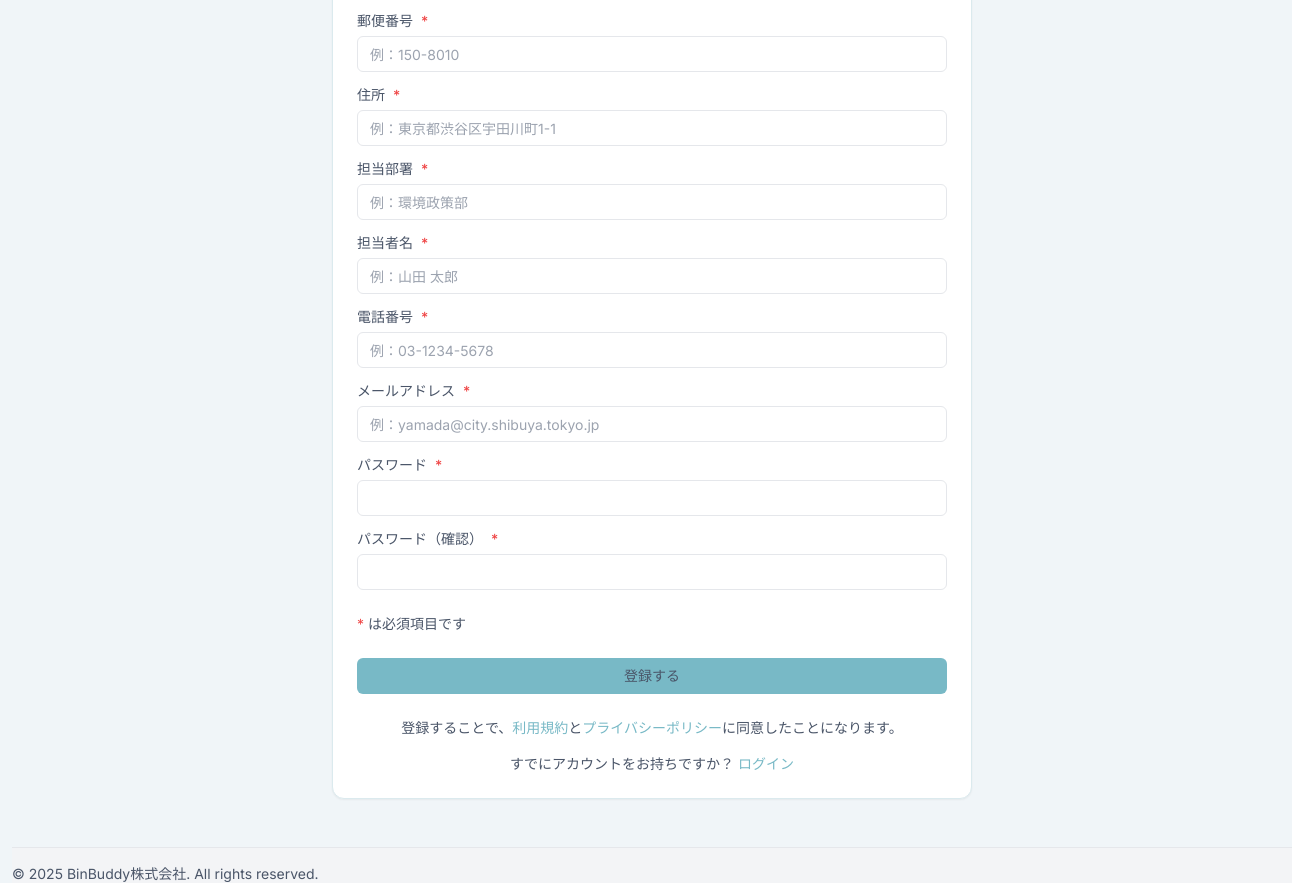
Test: Register Page › 異常系: フォーム未入力でバリデーションエラーが表示される
(page scrolled)
What coordinates should you click on to do the following:
click the button "登録する"
I would click on:
 (652, 676)
Its box is [357,658,947,694].
(page scrolled)
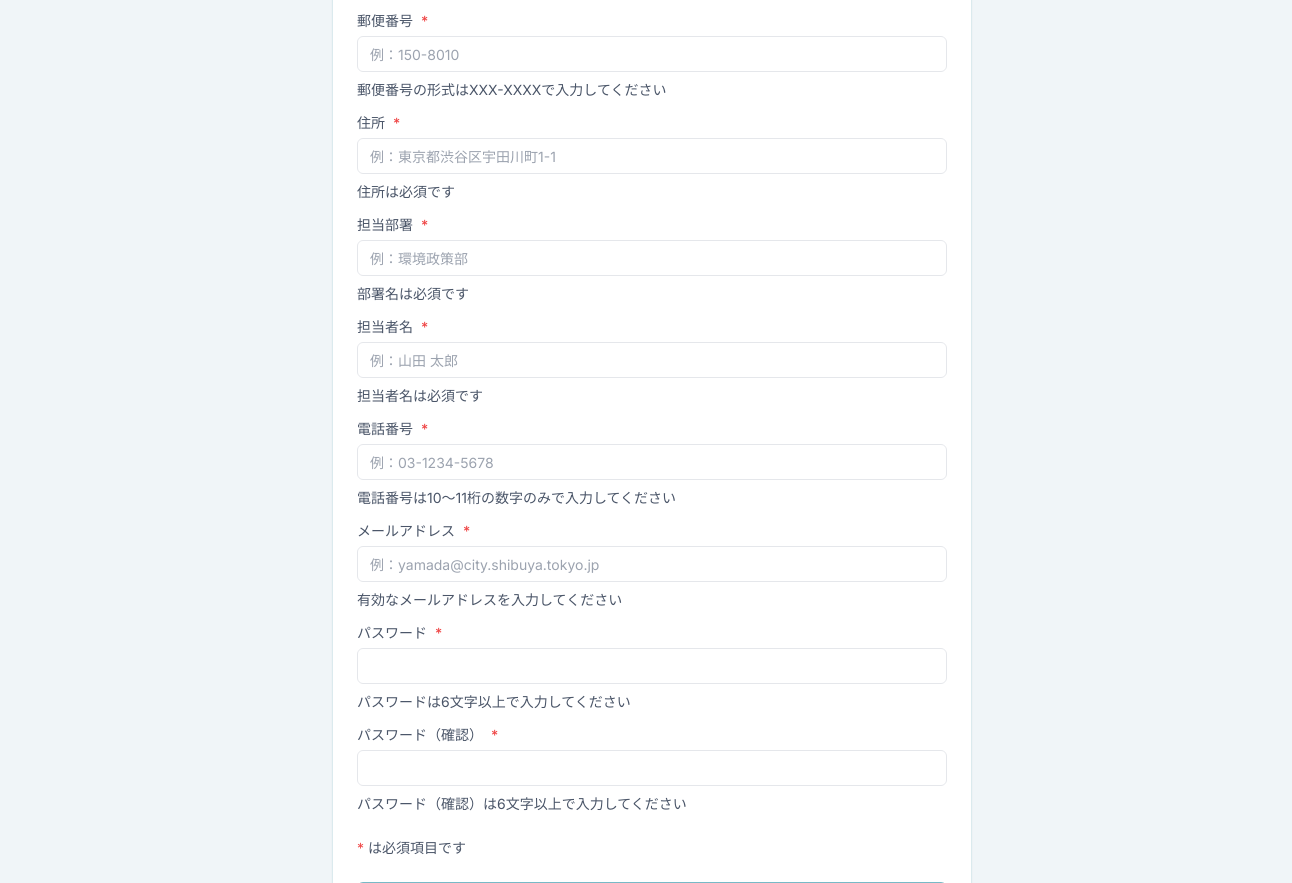
expect the text "郵便番号の形式はXXX-XXXXで入力してください" is shown: met, box [357,81,666,98]
